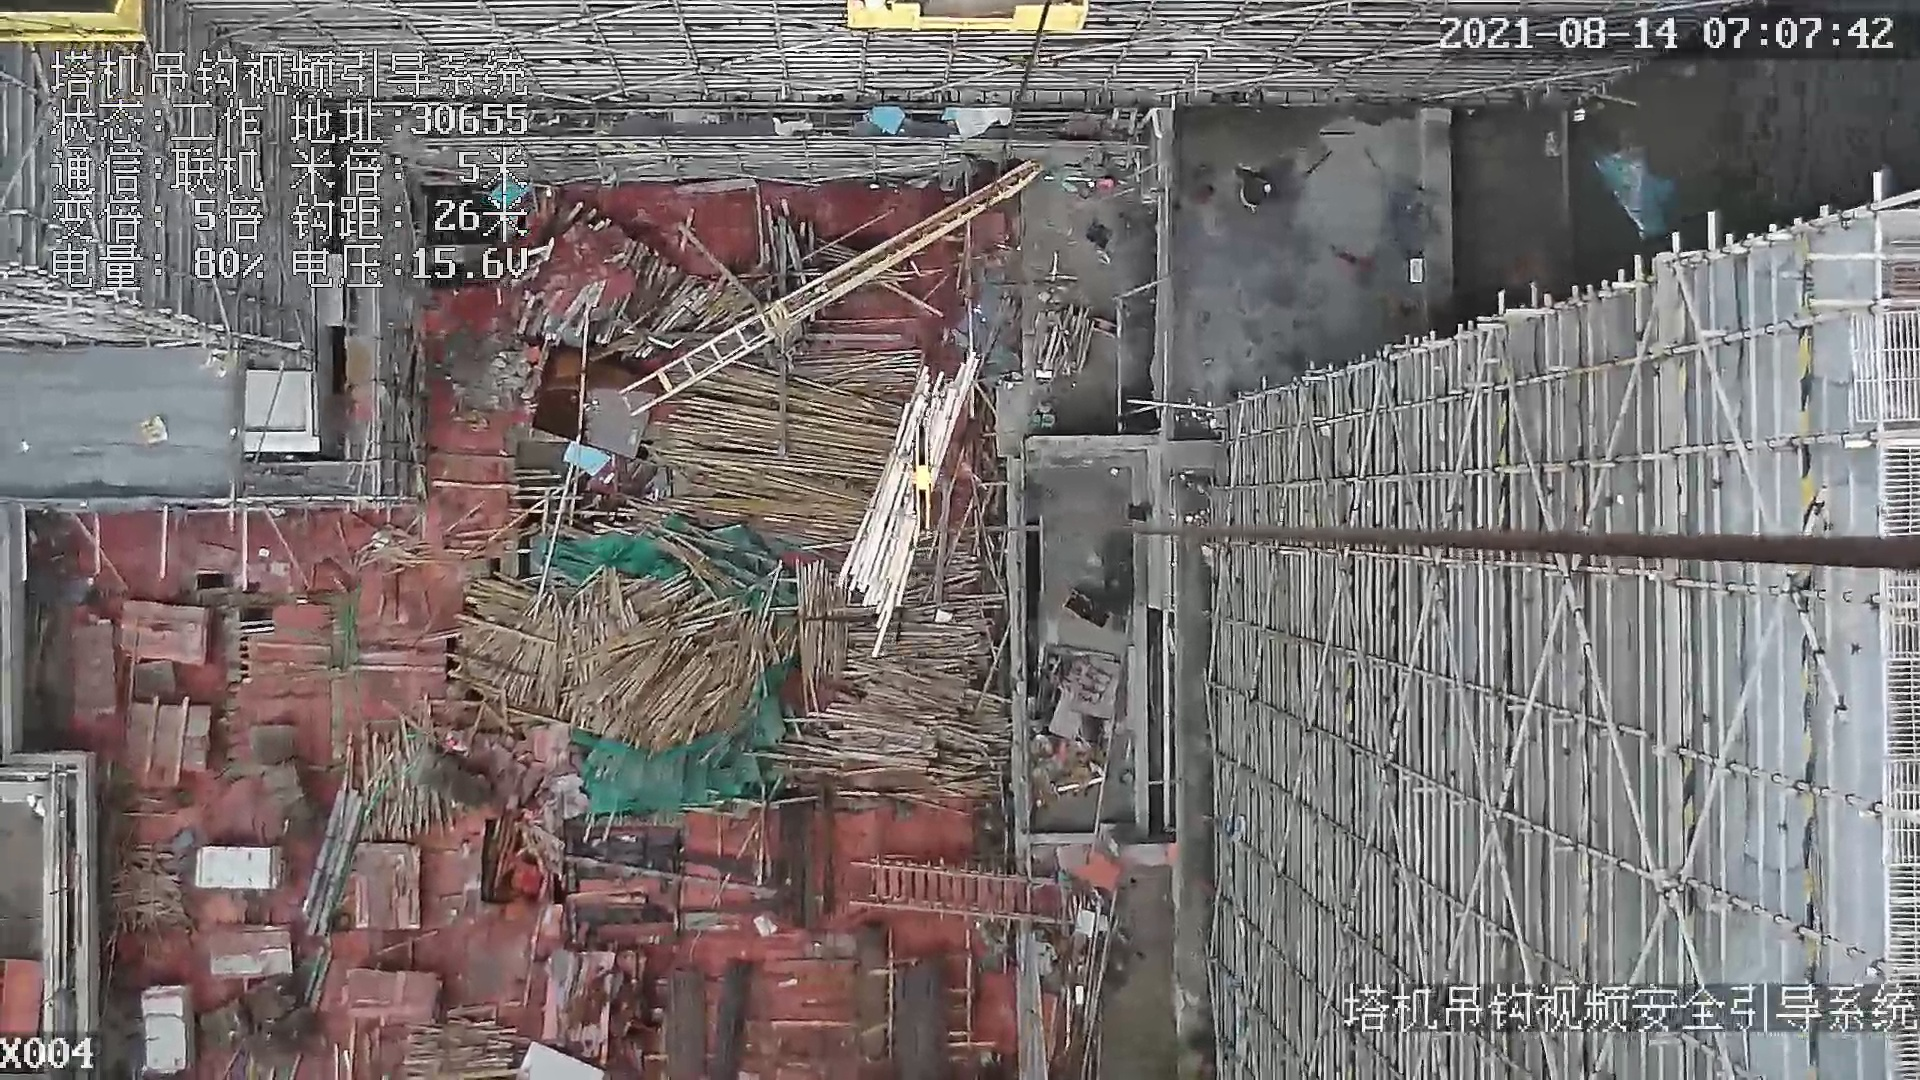hook: (895, 418, 945, 541)
